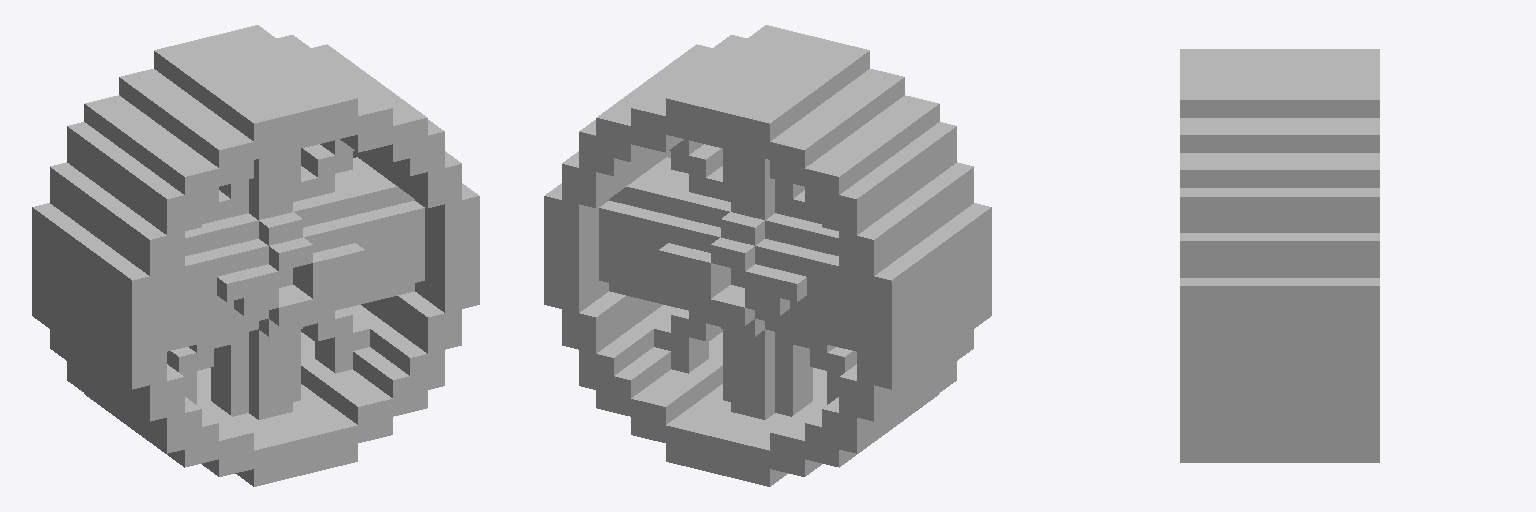
Rendered from first_car_wheel.obj.
3 views of the same model, side by side, from view 1: azimuth 30°, elevation 25°; view 2: azimuth 150°, elevation 25°; view 3: azimuth 270°, elevation 25° (orthographic).
Parts seen in each view (by area): view 1: object 1; view 2: object 1; view 3: object 1.
Boxes of the visible parts, x1=… form: object 1: x1=32, y1=25, x2=479, y2=486; object 1: x1=544, y1=25, x2=991, y2=486; object 1: x1=1180, y1=49, x2=1379, y2=462.
Size of the model in its own units: 2 by 2 by 1.